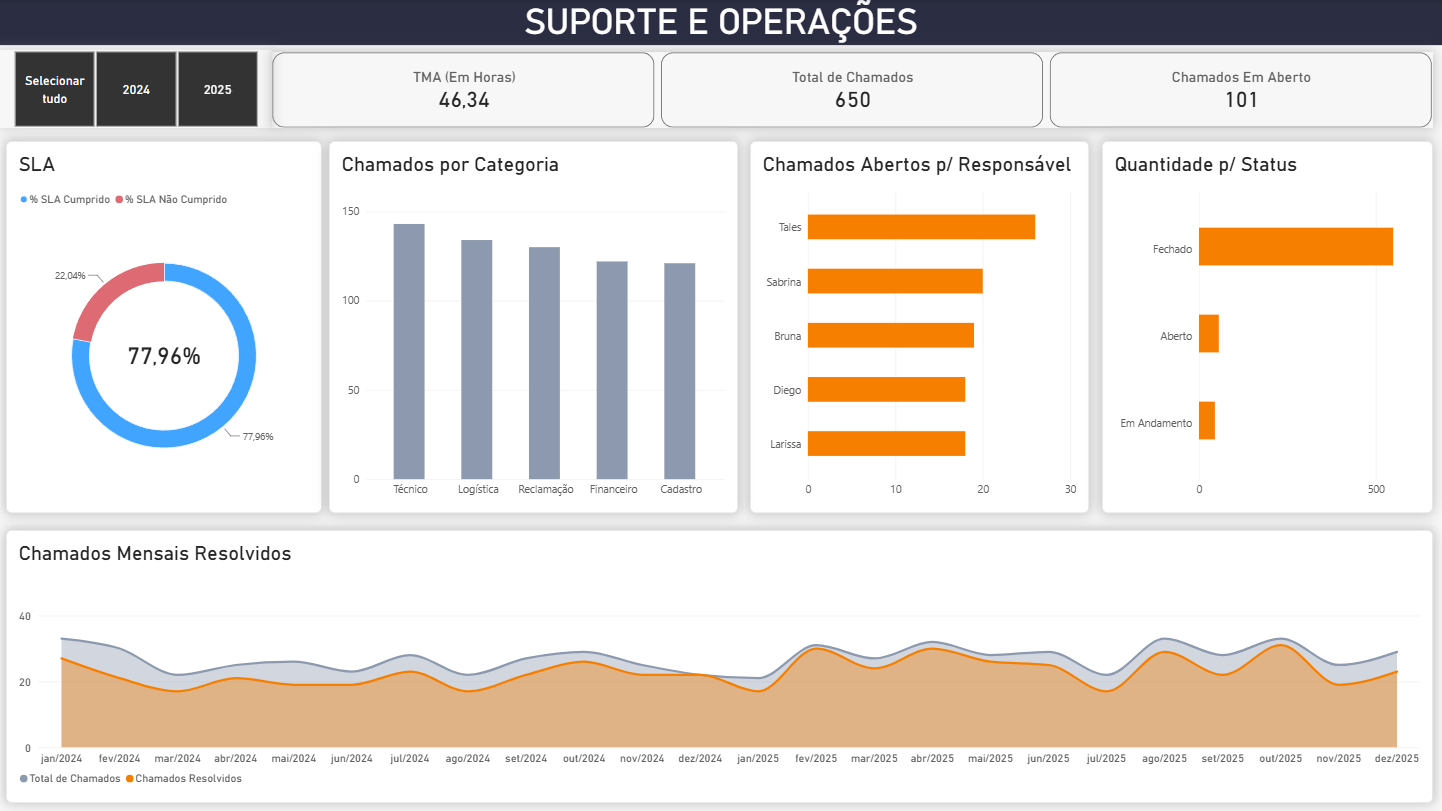

The page's visual inventory and layout, read from the dashboard file:
{"tool":"powerbi","page":{"name":"Operacional","canvas":[1920,1080],"ordinal":2},"visuals":[{"type":"textbox","box":[0,0,1920.6,60],"z":0},{"type":"donutChart","title":"SLA ","fields":{"Y":["_Medidas.% SLA Cumprido","_Medidas.% SLA Não Cumprido"]},"box":[9.3,187.5,420.3,494.8],"z":1000},{"type":"clusteredBarChart","title":"Chamados Abertos p/ Responsável","fields":{"Category":["chamados_suporte.responsavel"],"Y":["_Medidas.Chamados Em Aberto"]},"box":[998.9,187.5,450.9,494.8],"z":2000},{"type":"cardVisual","fields":{"Data":["_Medidas.Tempo Médio de Atendimento","_Medidas.Total de Chamados","_Medidas.Chamados Em Aberto"]},"box":[363.1,69.2,1544.2,101.1],"z":3000},{"type":"columnChart","title":"Chamados por Categoria","fields":{"Category":["chamados_suporte.categoria_problema"],"Y":["_Medidas.Total de Chamados"]},"box":[438.9,187.5,544,494.8],"z":4000},{"type":"barChart","title":"Quantidade p/ Status","fields":{"Category":["chamados_suporte.status"],"Y":["CountNonNull(chamados_suporte.categoria_problema)"]},"box":[1467,187.5,440.2,494.8],"z":5000},{"type":"areaChart","title":"Chamados Mensais Resolvidos","fields":{"Category":["dCalendario.Mês/Ano"],"Y":["_Medidas.Total de Chamados","_Medidas.Chamados Resolvidos"]},"box":[9.3,704.9,1898,363.1],"z":6000},{"type":"slicer","fields":{"Values":["dCalendario.Ano"]},"box":[0,66.5,363.1,103.7],"z":7000}]}

Visuals, with their boxes in screenshot pixels (x1, y1, x2, y2), scaled from the page's 1920x1080 canvas onto the 1442x811 screenshot:
textbox: <bbox>0, 0, 1441, 45</bbox>
"SLA " donutChart: <bbox>7, 141, 323, 512</bbox>
"Chamados Abertos p/ Responsável" clusteredBarChart: <bbox>750, 141, 1089, 512</bbox>
cardVisual - _Medidas.Tempo Médio de Atendimento x _Medidas.Total de Chamados: <bbox>273, 52, 1432, 128</bbox>
"Chamados por Categoria" columnChart: <bbox>330, 141, 738, 512</bbox>
"Quantidade p/ Status" barChart: <bbox>1102, 141, 1432, 512</bbox>
"Chamados Mensais Resolvidos" areaChart: <bbox>7, 529, 1432, 802</bbox>
slicer - dCalendario.Ano: <bbox>0, 50, 273, 128</bbox>
